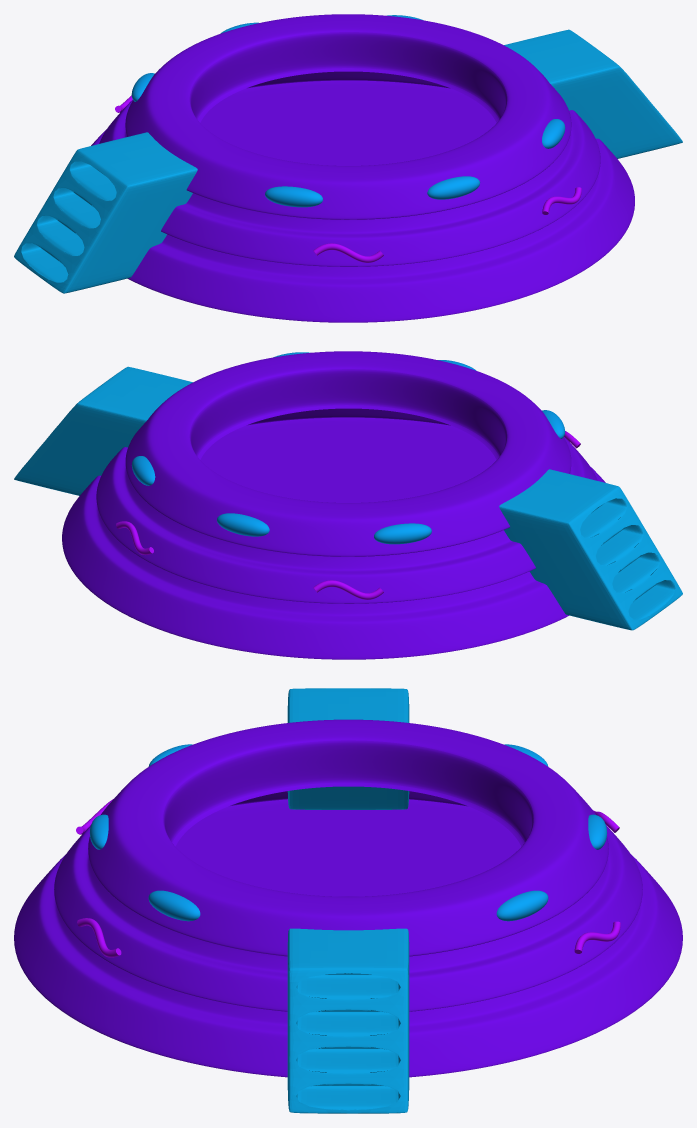
3 views of the same model, one above another, from view 1: azimuth 30°, elevation 25°; view 2: azimuth 150°, elevation 25°; view 3: azimuth 270°, elevation 25° (orthographic). The views are drawn at different scales.
Parts seen in each view (by area): view 1: Cylinder; view 2: Cylinder; view 3: Cylinder.
Boxes of the visible parts, bbox=[...] form: Cylinder: bbox=[14, 14, 682, 322]; Cylinder: bbox=[14, 351, 682, 659]; Cylinder: bbox=[14, 688, 682, 1113].
Size of the model in its own units: 1236 by 200 by 988.
